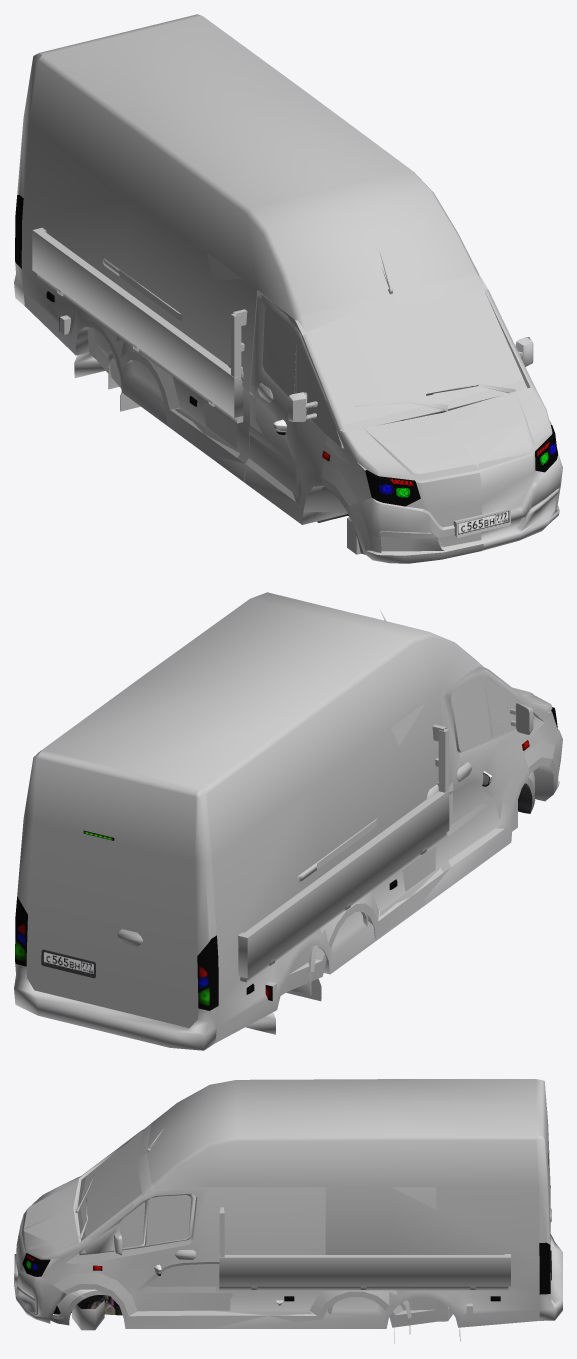
The model's file is gazel_next_nn.fbx.
The picture shows the model from 3 angles, top to bottom: view 1: azimuth 30°, elevation 25°; view 2: azimuth 150°, elevation 25°; view 3: azimuth 270°, elevation 25°; orthographic projection. The views are drawn at different scales.
Visible parts, largest first — view 1: Metal 03, Bort 03, Defaultpart 02, Sobol 02, Bort 04, Metal 04, Sobol 01, F_R; view 2: Metal 03, Bort 03, Metal 04 (×2), Sobol 02, Bort 04, Defaultpart 02, R_R, Sobol 01, R_L; view 3: Metal 03, Sobol 02, Bort 03, Metal 04, Defaultpart 02, Bort 04, Fl_part 05, R_L, Fl_part 01, F_L, Sobol 01.
Part boxes in pixels (<box>): Metal 03: <box>21,14,552,524</box>; Bort 03: <box>32,227,559,563</box>; Defaultpart 02: <box>265,289,523,424</box>; Sobol 02: <box>93,253,551,469</box>; Bort 04: <box>244,275,526,507</box>; Metal 04: <box>14,53,562,551</box>; Sobol 01: <box>87,267,527,542</box>; F_R: <box>322,451,420,506</box>; Metal 03: <box>26,592,529,1042</box>; Bort 03: <box>238,676,562,1000</box>; Metal 04 (×2): <box>14,610,530,1050</box>; Sobol 02: <box>287,660,482,991</box>; Bort 04: <box>441,665,557,884</box>; Defaultpart 02: <box>455,677,509,749</box>; R_R: <box>197,935,218,1010</box>; Sobol 01: <box>280,691,515,1001</box>; R_L: <box>15,896,27,966</box>; Metal 03: <box>24,1079,550,1328</box>; Sobol 02: <box>21,1123,436,1328</box>; Bort 03: <box>16,1174,510,1334</box>; Metal 04: <box>14,1080,562,1341</box>; Defaultpart 02: <box>80,1131,191,1248</box>; Bort 04: <box>21,1129,158,1287</box>; Fl_part 05: <box>50,1264,161,1325</box>; R_L: <box>539,1242,550,1294</box>; Fl_part 01: <box>53,1273,160,1315</box>; F_L: <box>22,1253,102,1276</box>; Sobol 01: <box>79,1138,452,1343</box>.
Bounding box in the file's own units: 2.27 × 2.5 × 6.16.
